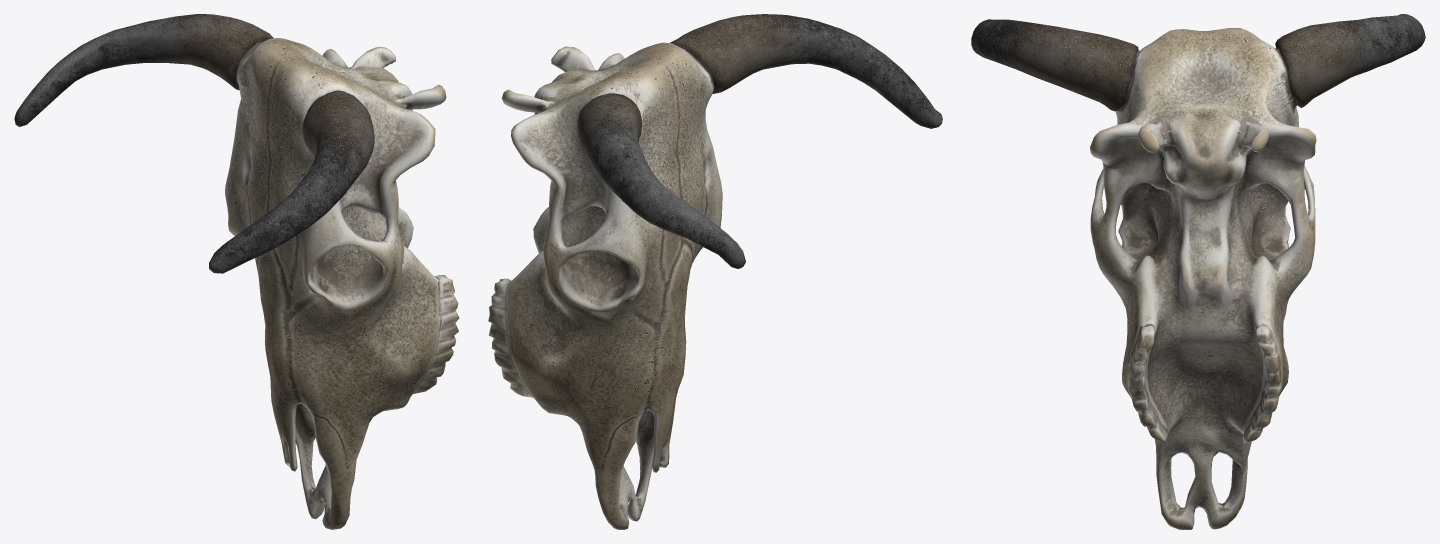
The model's file is SM_Wall_Decor.fbx.
3 views of the same model, side by side, from view 1: azimuth 30°, elevation 25°; view 2: azimuth 150°, elevation 25°; view 3: azimuth 270°, elevation 25° (orthographic). The views are drawn at different scales.
Visible parts, largest first — view 1: SM_Wall_Decor_LOD0; view 2: SM_Wall_Decor_LOD0; view 3: SM_Wall_Decor_LOD0.
Boxes of the visible parts, left/top/right/bottom form: SM_Wall_Decor_LOD0: left=14, top=14, right=459, bottom=529; SM_Wall_Decor_LOD0: left=488, top=14, right=942, bottom=529; SM_Wall_Decor_LOD0: left=971, top=14, right=1425, bottom=529.
Size of the model in its own units: 64.1 by 78.23 by 91.73.
